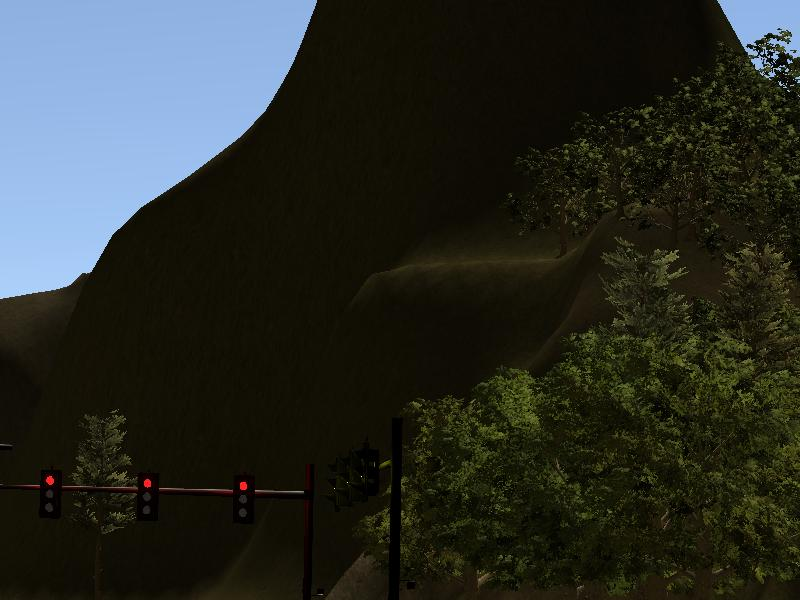Red: (40, 469, 63, 518), (138, 473, 156, 520), (234, 478, 252, 521)
